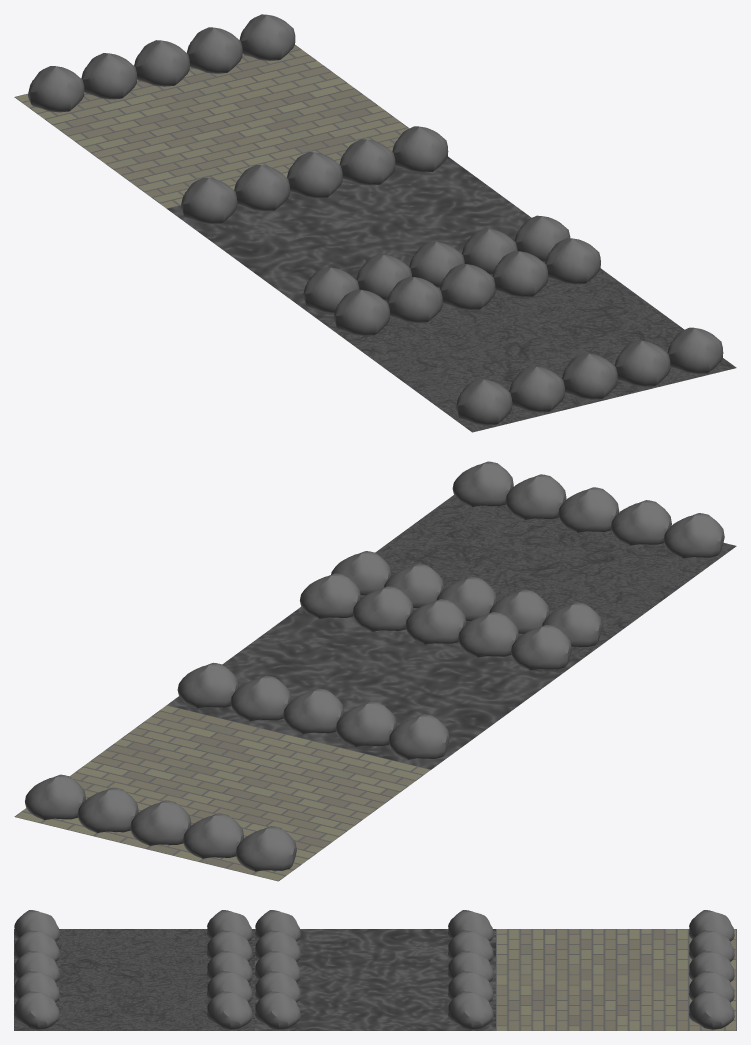
The model's file is Load.fbx.
The picture shows the model from 3 angles, top to bottom: view 1: azimuth 30°, elevation 25°; view 2: azimuth 150°, elevation 25°; view 3: azimuth 270°, elevation 25°; orthographic projection. The views are drawn at different scales.
Visible parts, largest first — view 1: Plane.002, Plane, Plane.001, rock.005, rock.008, rock.004, rock.002, rock.003; view 2: Plane.002, Plane.001, Plane, rock.005, rock.003, rock.008, rock.002, rock.004; view 3: Plane.002, Plane, Plane.001, rock.003, rock.005, rock.008, rock.002, rock.004.
Boxes of the visible parts, bbox=[...] form: Plane.002: bbox=[14, 45, 409, 208]; Plane: bbox=[320, 268, 736, 432]; Plane.001: bbox=[167, 156, 545, 320]; rock.005: bbox=[455, 327, 723, 425]; rock.008: bbox=[28, 14, 295, 112]; rock.004: bbox=[333, 238, 600, 335]; rock.002: bbox=[180, 126, 448, 223]; rock.003: bbox=[303, 215, 570, 313]; Plane.002: bbox=[14, 705, 430, 881]; Plane.001: bbox=[167, 606, 583, 769]; Plane: bbox=[360, 495, 736, 657]; rock.005: bbox=[452, 461, 724, 558]; rock.003: bbox=[300, 573, 571, 670]; rock.008: bbox=[25, 774, 296, 871]; rock.002: bbox=[177, 662, 449, 759]; rock.004: bbox=[331, 551, 602, 647]; Plane.002: bbox=[496, 929, 736, 1030]; Plane: bbox=[14, 929, 254, 1030]; Plane.001: bbox=[255, 929, 495, 1030]; rock.003: bbox=[255, 910, 300, 1029]; rock.005: bbox=[14, 910, 59, 1029]; rock.008: bbox=[689, 910, 734, 1029]; rock.002: bbox=[448, 910, 493, 1029]; rock.004: bbox=[207, 910, 252, 1029].
Size of the model in its own units: 1001 by 141 by 3000.
Materials: 4 (3 with a texture image).
